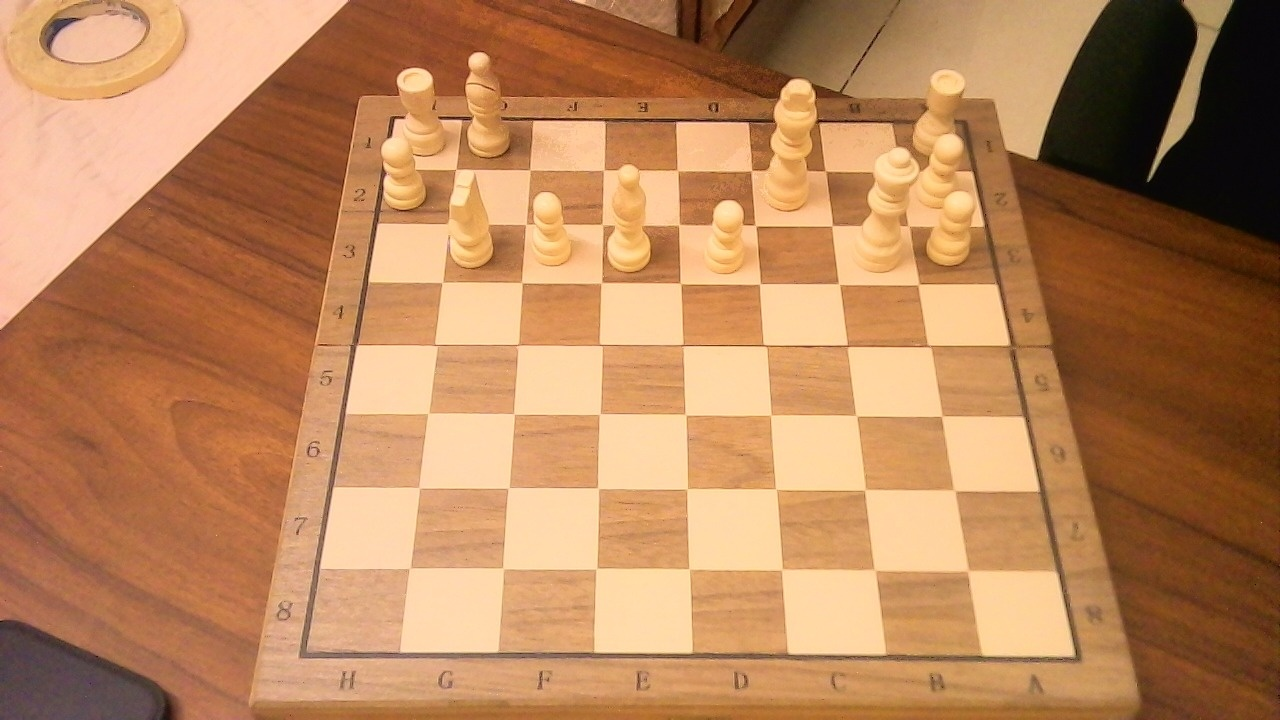B: (459, 41, 518, 161), (604, 154, 661, 276)
K: (758, 66, 827, 216)
N: (442, 163, 503, 272)
P: (920, 125, 985, 269), (695, 189, 754, 279), (377, 127, 433, 212), (525, 182, 578, 271)
Q: (845, 135, 925, 277)
R: (909, 59, 972, 160), (392, 58, 451, 160)
